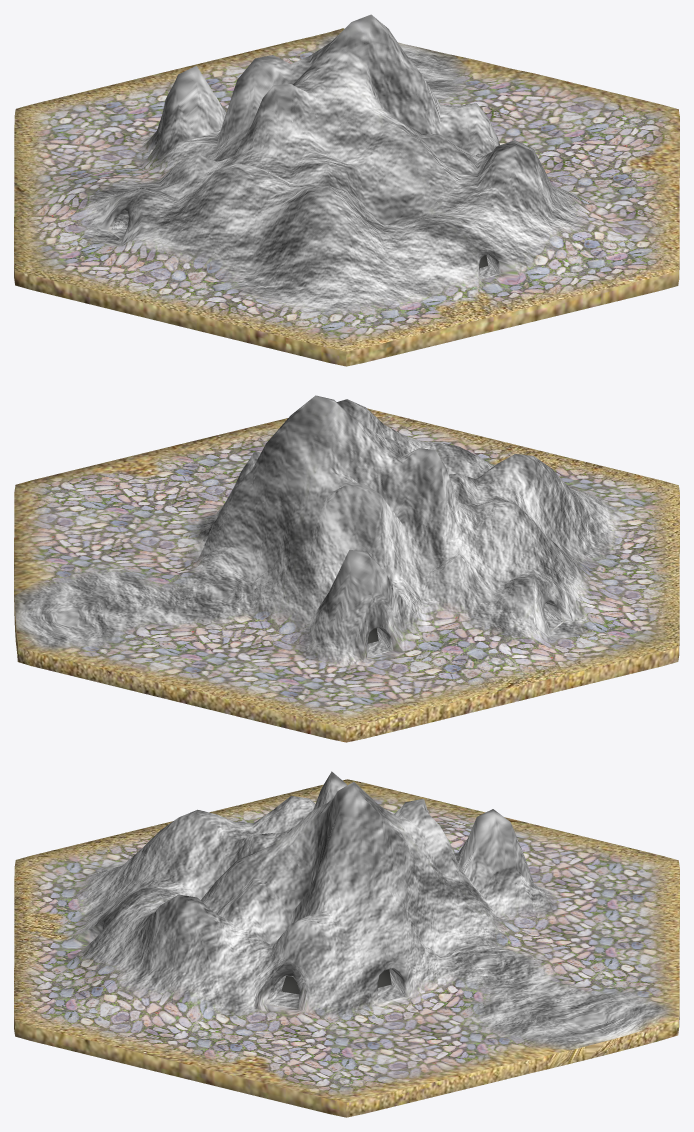
The model's file is redhex.fbx.
3 renders of one model, top to bottom at view 1: azimuth 30°, elevation 25°; view 2: azimuth 150°, elevation 25°; view 3: azimuth 270°, elevation 25°, orthographic.
Parts seen in each view (by area): view 1: Hexa_dul; view 2: Hexa_dul; view 3: Hexa_dul.
Boxes of the visible parts, x1,y1,x2,y2 form: Hexa_dul: (14, 14, 679, 366); Hexa_dul: (14, 395, 679, 742); Hexa_dul: (14, 771, 679, 1117).
Size of the model in its own units: 24.41 by 6.39 by 21.23.
Materials: 1 (1 with a texture image).
